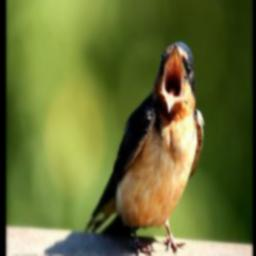Swallow: (83, 39, 205, 256)
